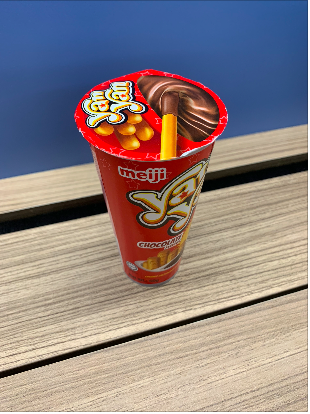Cookies_1-99g: (111, 98, 182, 277)
